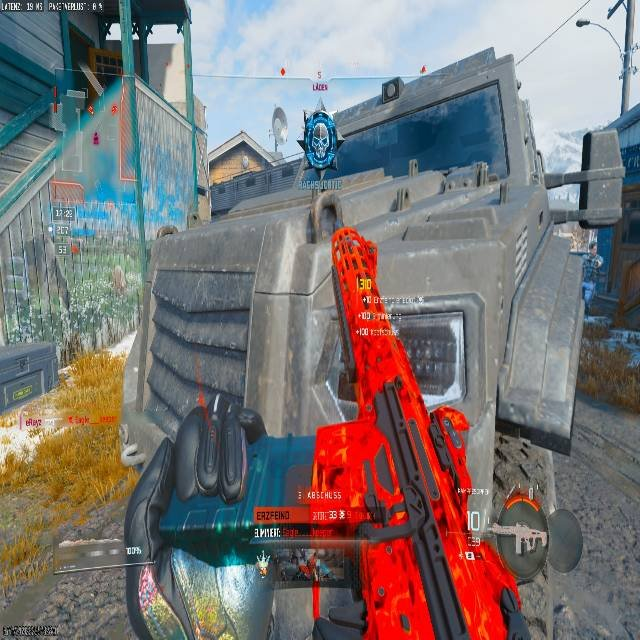head: (590, 244, 597, 255)
player: (580, 245, 603, 317), (241, 156, 249, 171)
